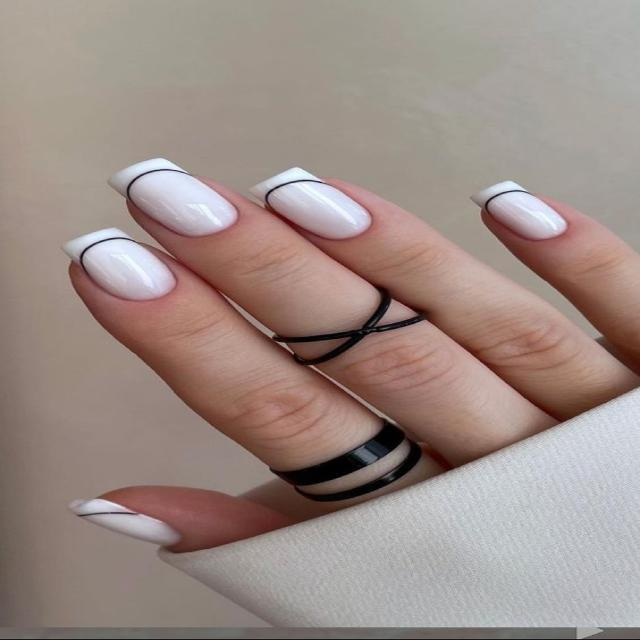Fingernail: (109, 157, 236, 236), (253, 168, 371, 238), (62, 228, 175, 300), (472, 182, 566, 239), (68, 500, 180, 546)
